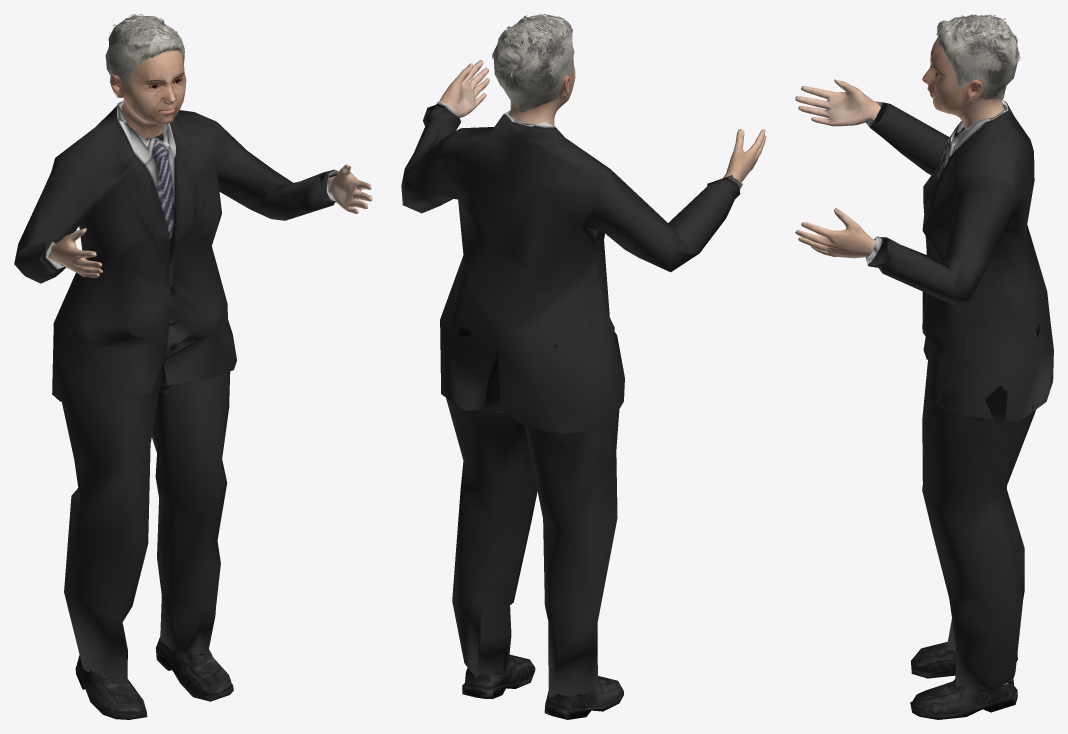
File: mara-presenter.glb
The picture shows the model from 3 angles, left to right: view 1: azimuth 30°, elevation 25°; view 2: azimuth 150°, elevation 25°; view 3: azimuth 270°, elevation 25°; orthographic projection. The views are drawn at different scales.
Visible parts, largest first — view 1: male_elegantsuit01, Harper | anatomical body, shoes04, short01; view 2: male_elegantsuit01, short01, Harper | anatomical body, shoes04; view 3: male_elegantsuit01, Harper | anatomical body, short01, shoes04.
Part boxes in pixels (left/top/right/bottom): male_elegantsuit01: left=14, top=101, right=338, bottom=681; Harper | anatomical body: left=48, top=50, right=372, bottom=277; shoes04: left=75, top=637, right=233, bottom=719; short01: left=105, top=14, right=184, bottom=85; male_elegantsuit01: left=401, top=101, right=743, bottom=697; short01: left=492, top=14, right=574, bottom=112; Harper | anatomical body: left=439, top=60, right=766, bottom=182; shoes04: left=462, top=654, right=623, bottom=719; male_elegantsuit01: left=865, top=99, right=1053, bottom=687; Harper | anatomical body: left=795, top=37, right=1004, bottom=258; short01: left=936, top=14, right=1020, bottom=99; shoes04: left=910, top=641, right=1017, bottom=719.
Bounding box in the file's own units: 0.8091 × 1.68 × 0.5848.
Materials: 8 (8 with a texture image).
